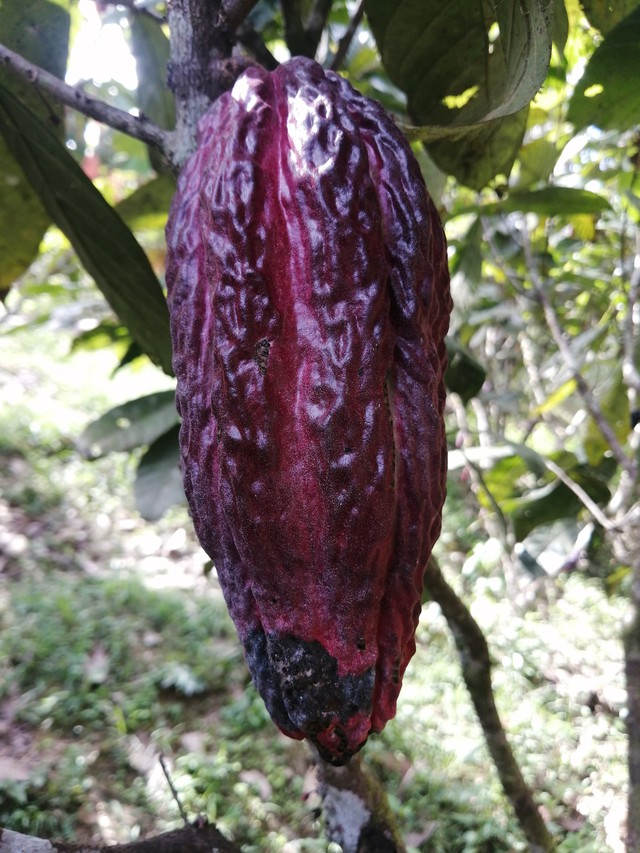phytophthora palmivora: (137, 46, 465, 780)
